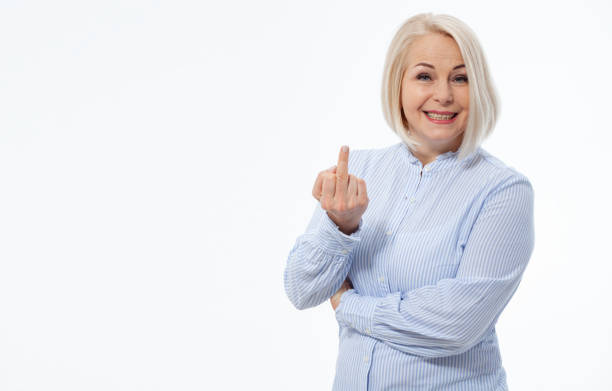insulting_gesture: (313, 143, 369, 229)
